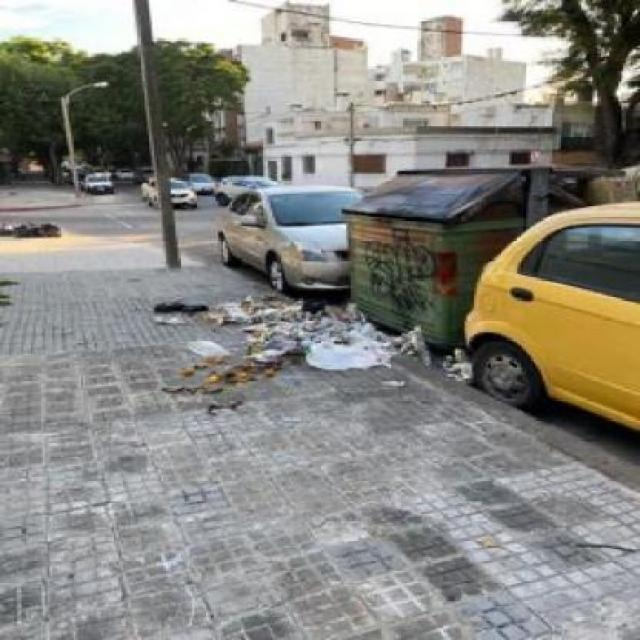garbage: (141, 294, 424, 404), (0, 211, 64, 245)
